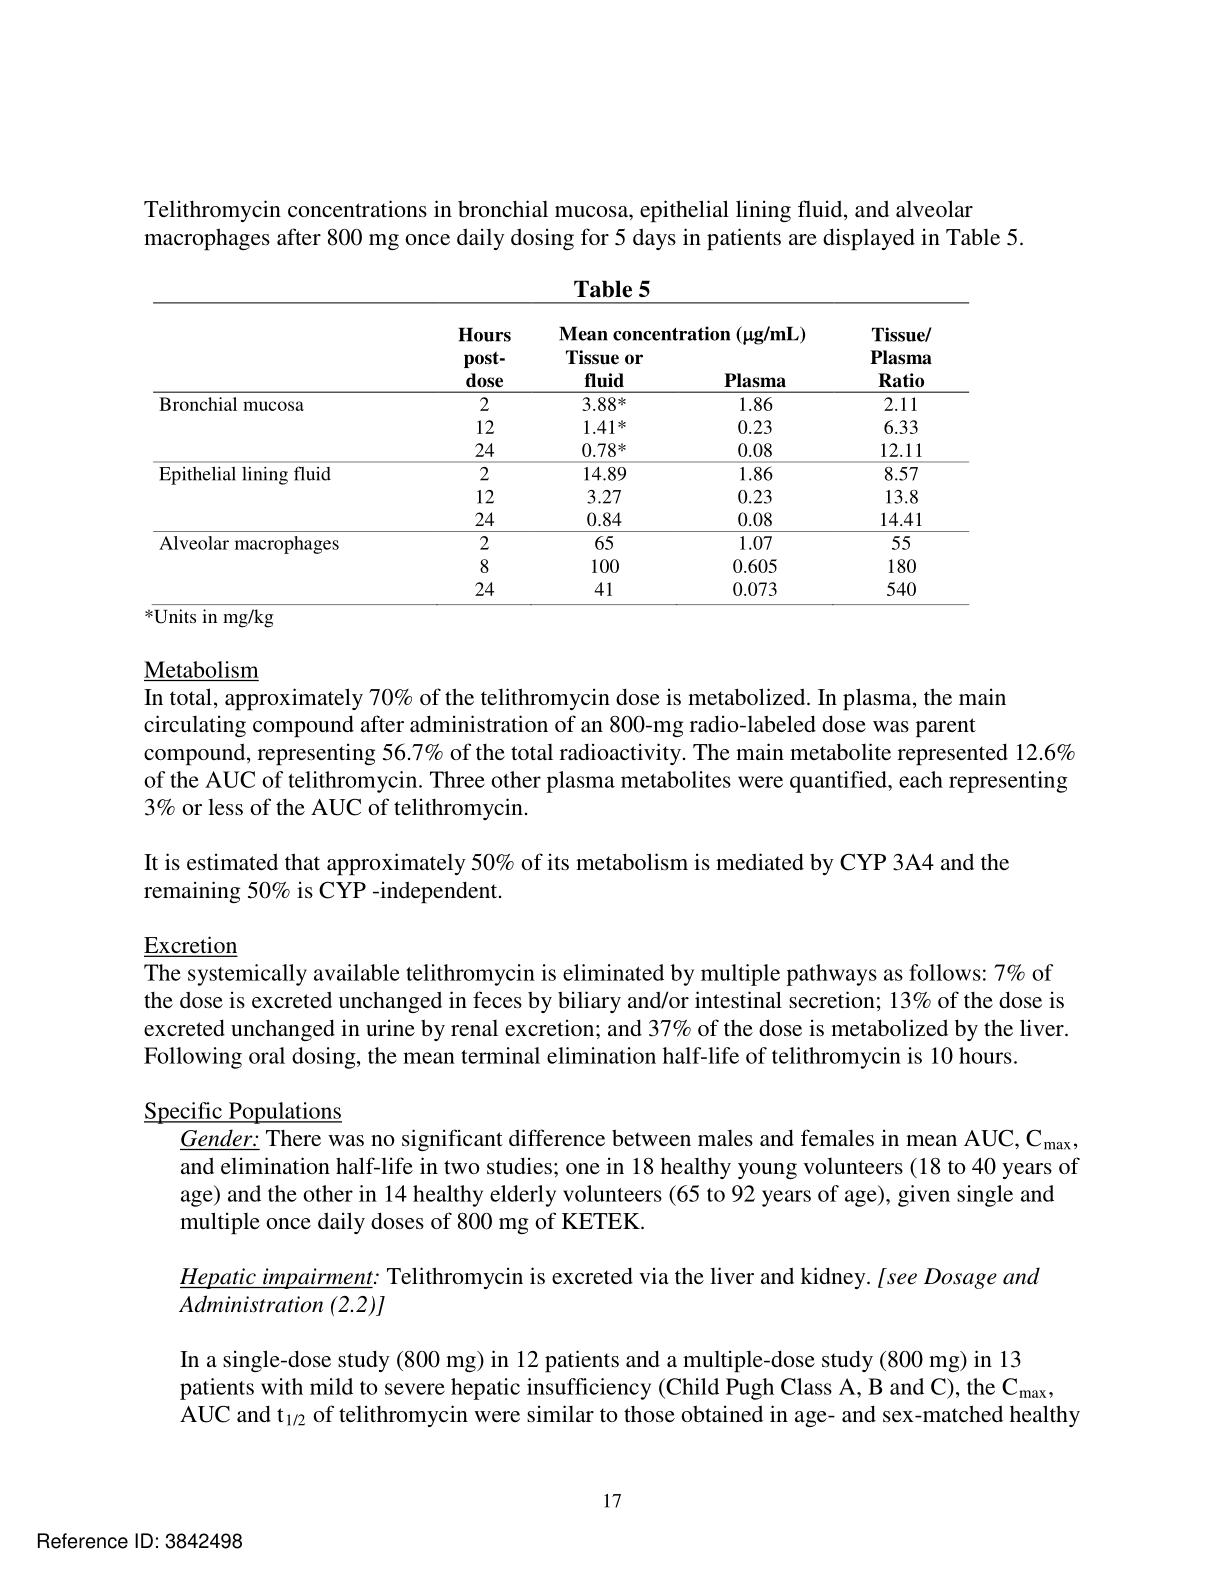partial_lined_merged_cells: (150, 301, 971, 607)
